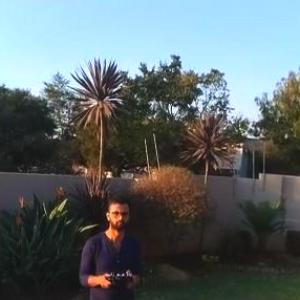follow: (75, 190, 148, 299)
